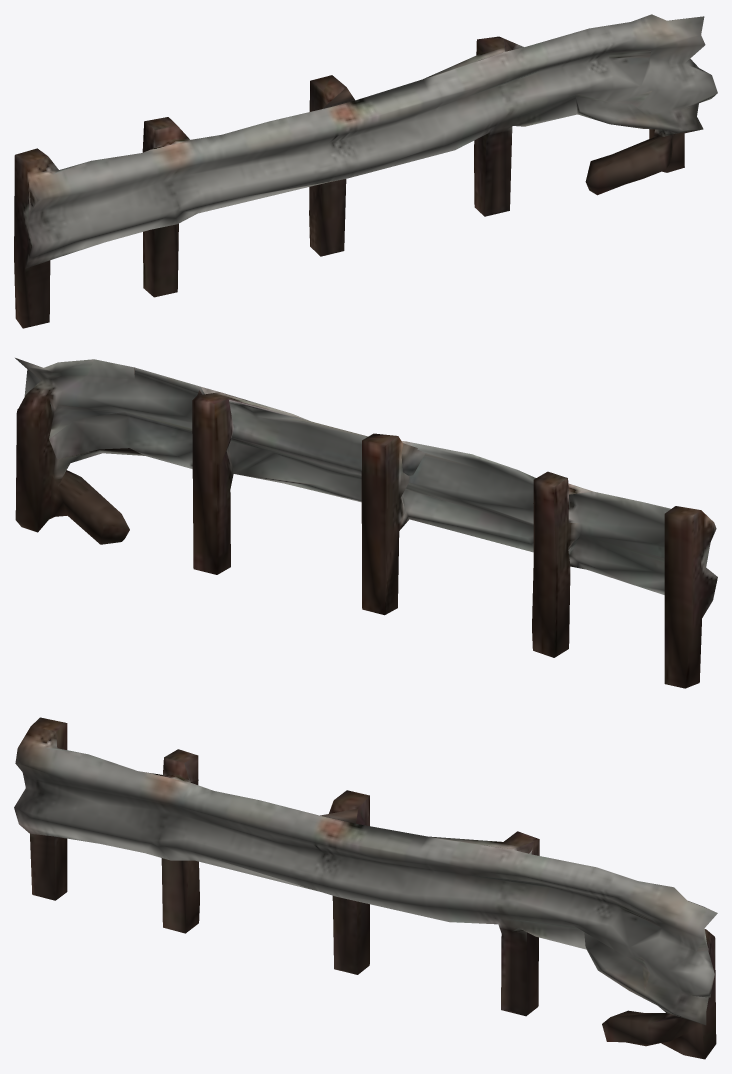
Rendered from prop_road_guardrail.glb.
3 views of the same model, one above another, from view 1: azimuth 30°, elevation 25°; view 2: azimuth 150°, elevation 25°; view 3: azimuth 330°, elevation 25° (orthographic). The views are drawn at different scales.
Parts seen in each view (by area): view 1: Mesh_0; view 2: Mesh_0; view 3: Mesh_0.
Part boxes in pixels (<box>): Mesh_0: <box>14,14,717,328</box>; Mesh_0: <box>15,358,717,688</box>; Mesh_0: <box>14,717,717,1059</box>.
Size of the model in its own units: 1.99 by 0.4723 by 0.1639.
Materials: 1 (1 with a texture image).
